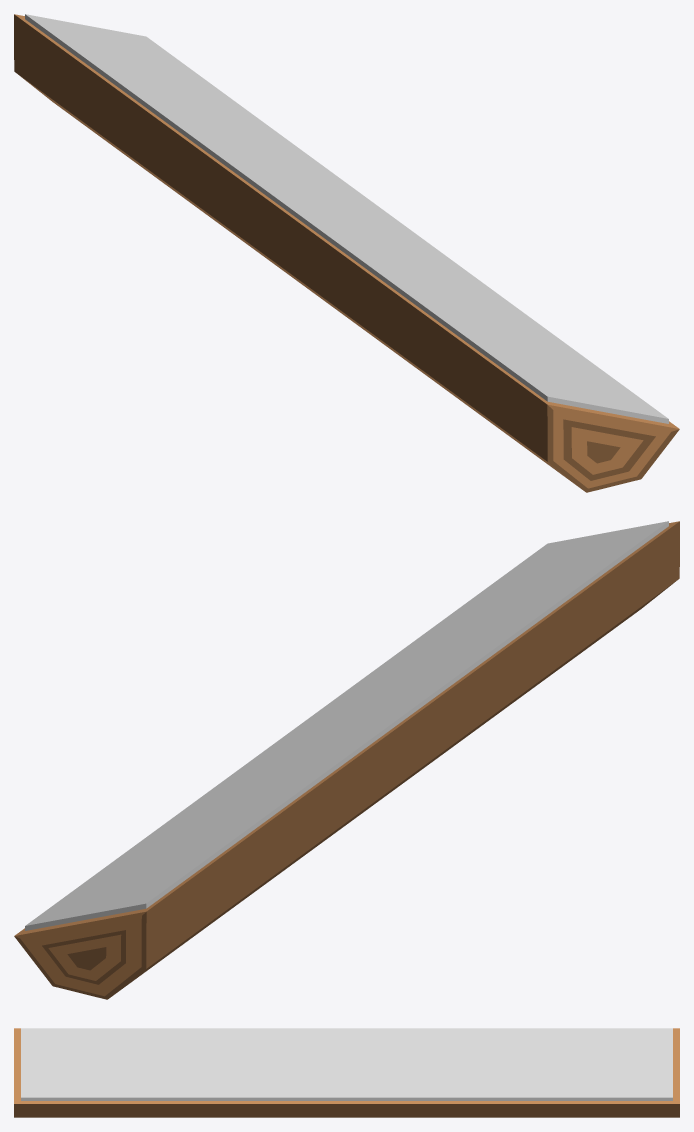
File: Beam_2_snow_mat.fbx
3 renders of one model, top to bottom at view 1: azimuth 30°, elevation 25°; view 2: azimuth 150°, elevation 25°; view 3: azimuth 270°, elevation 25°, orthographic. The views are drawn at different scales.
Visible parts, largest first — view 1: Beam_2_snow_mat; view 2: Beam_2_snow_mat; view 3: Beam_2_snow_mat.
Part boxes in pixels (x1=…): Beam_2_snow_mat: x1=14, y1=14, x2=679, y2=492; Beam_2_snow_mat: x1=14, y1=521, x2=679, y2=999; Beam_2_snow_mat: x1=14, y1=1028, x2=679, y2=1117.
Bounding box in the file's own units: 0.3476 × 0.2518 × 2.42.
